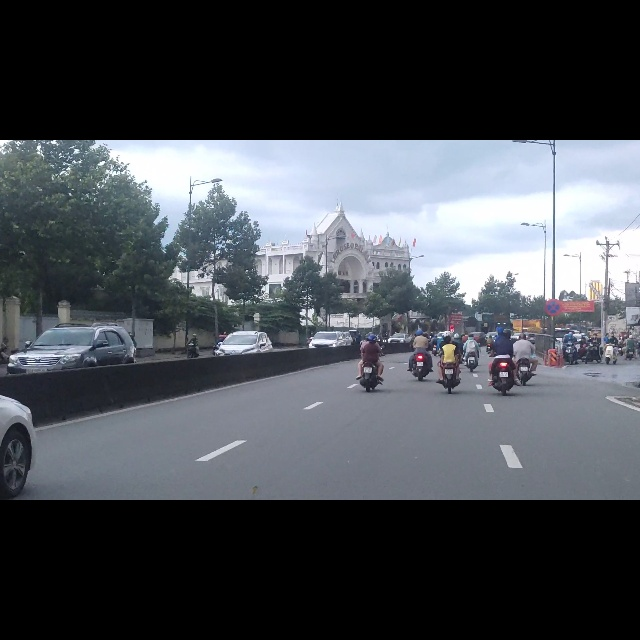bien_cam: (546, 283, 562, 311)
